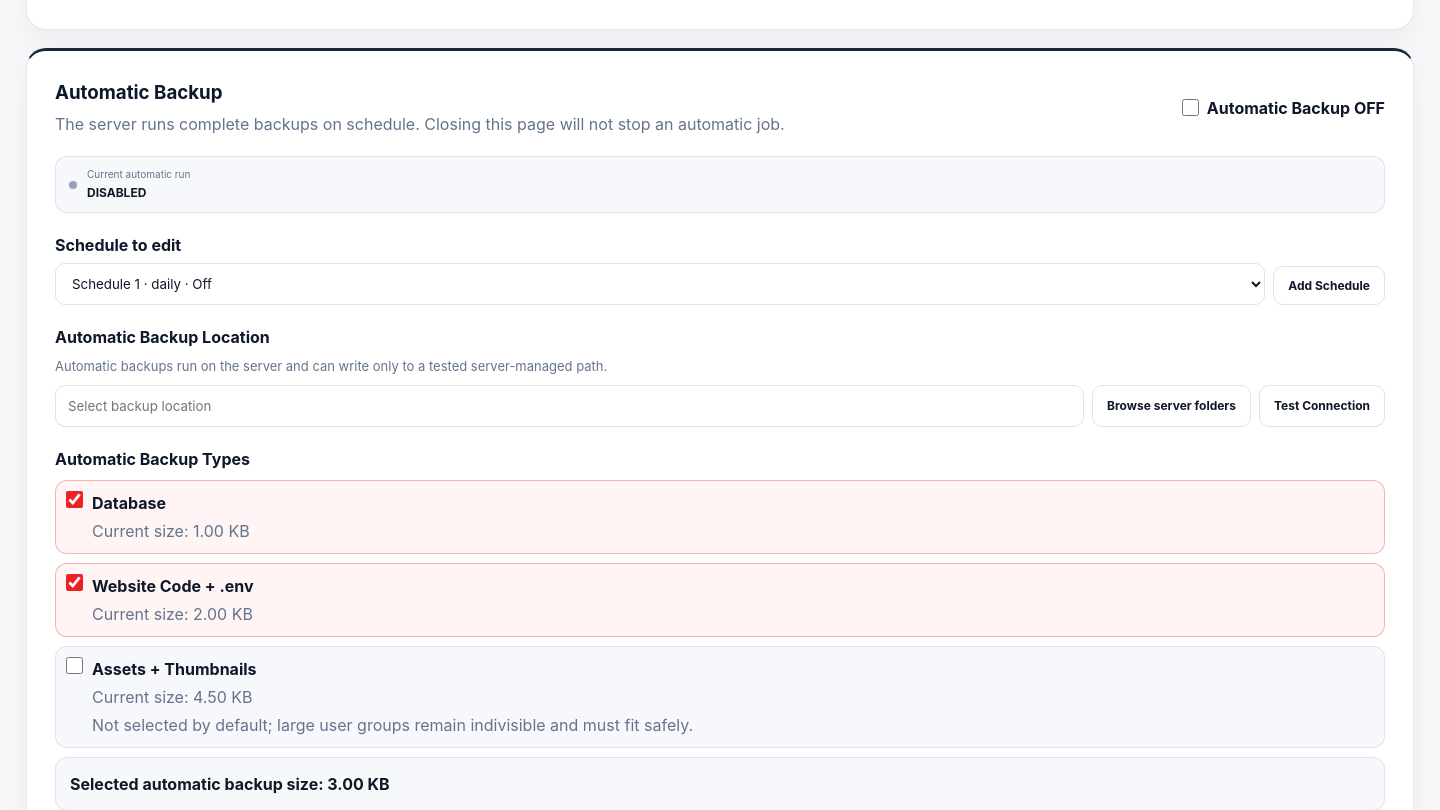
Scenario: AdminBackupPage › automatic destination Browse uses only the server-side destination picker
The width and height of the screenshot is (1440, 810).
(page scrolled)
Type "D:\\ExistingAutomaticBackup" into the field named "Automatic Backup Location" at coordinates (570, 406), box left=55, top=385, right=1084, bottom=427
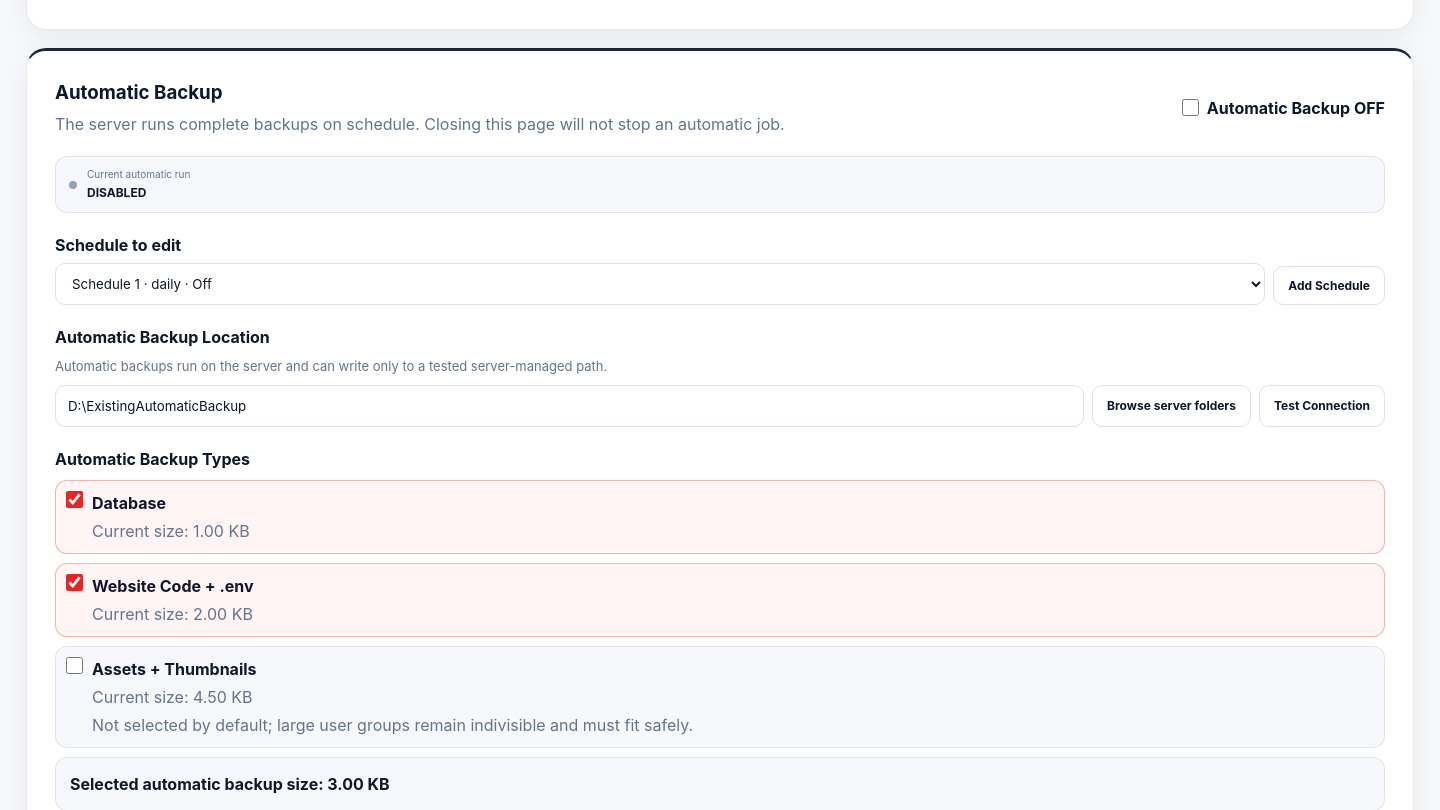
Click the button "Browse server folders" at coordinates (1172, 406), box left=1092, top=385, right=1251, bottom=427
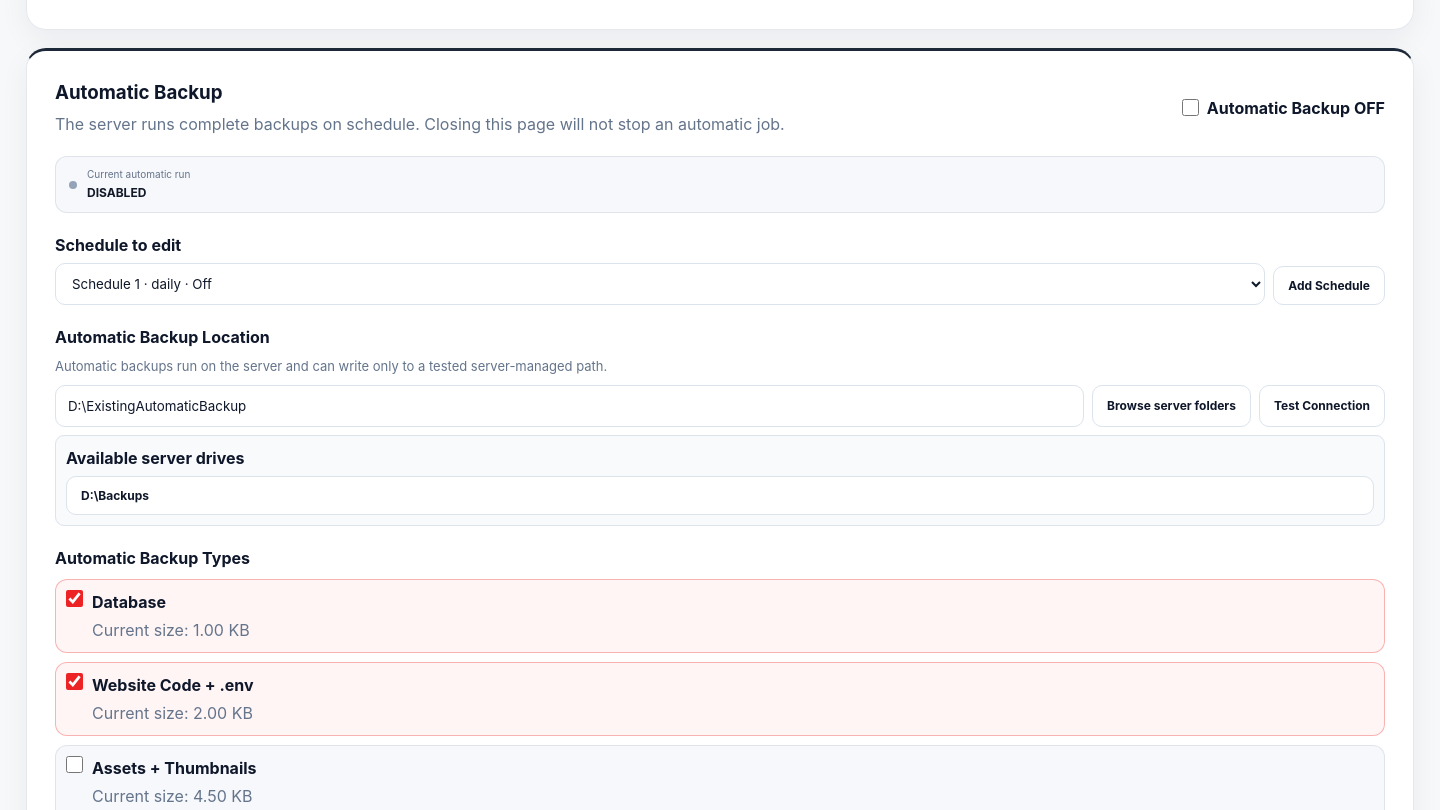
expect the button "D:\\Backups" is shown: met
Click the button "D:\\Backups" at coordinates (115, 495), box left=66, top=476, right=1374, bottom=515
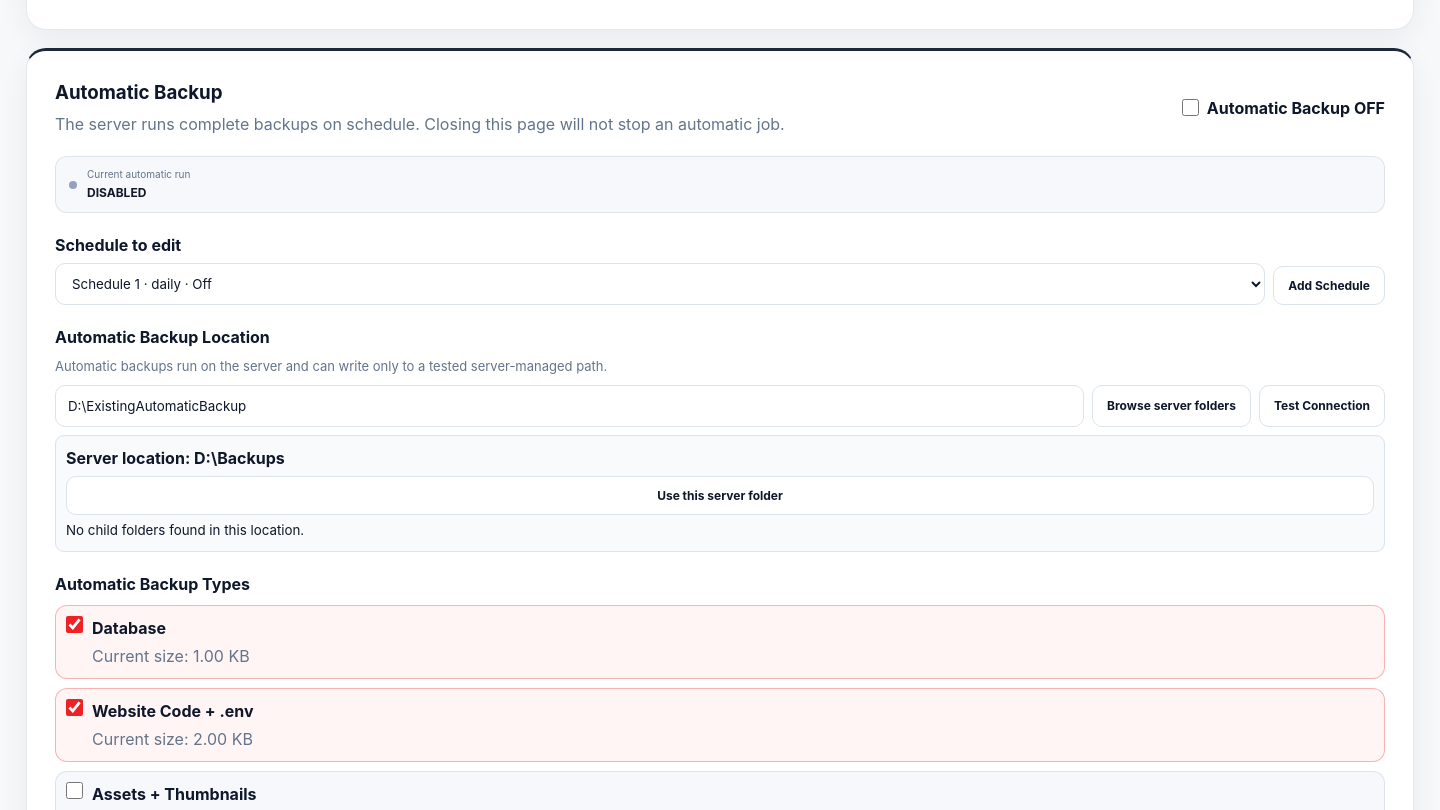
expect the text "Server location: D:\\Backups" is shown: met, box left=66, top=448, right=285, bottom=468
Click the button "Use this server folder" at coordinates (720, 495), box left=66, top=476, right=1374, bottom=515
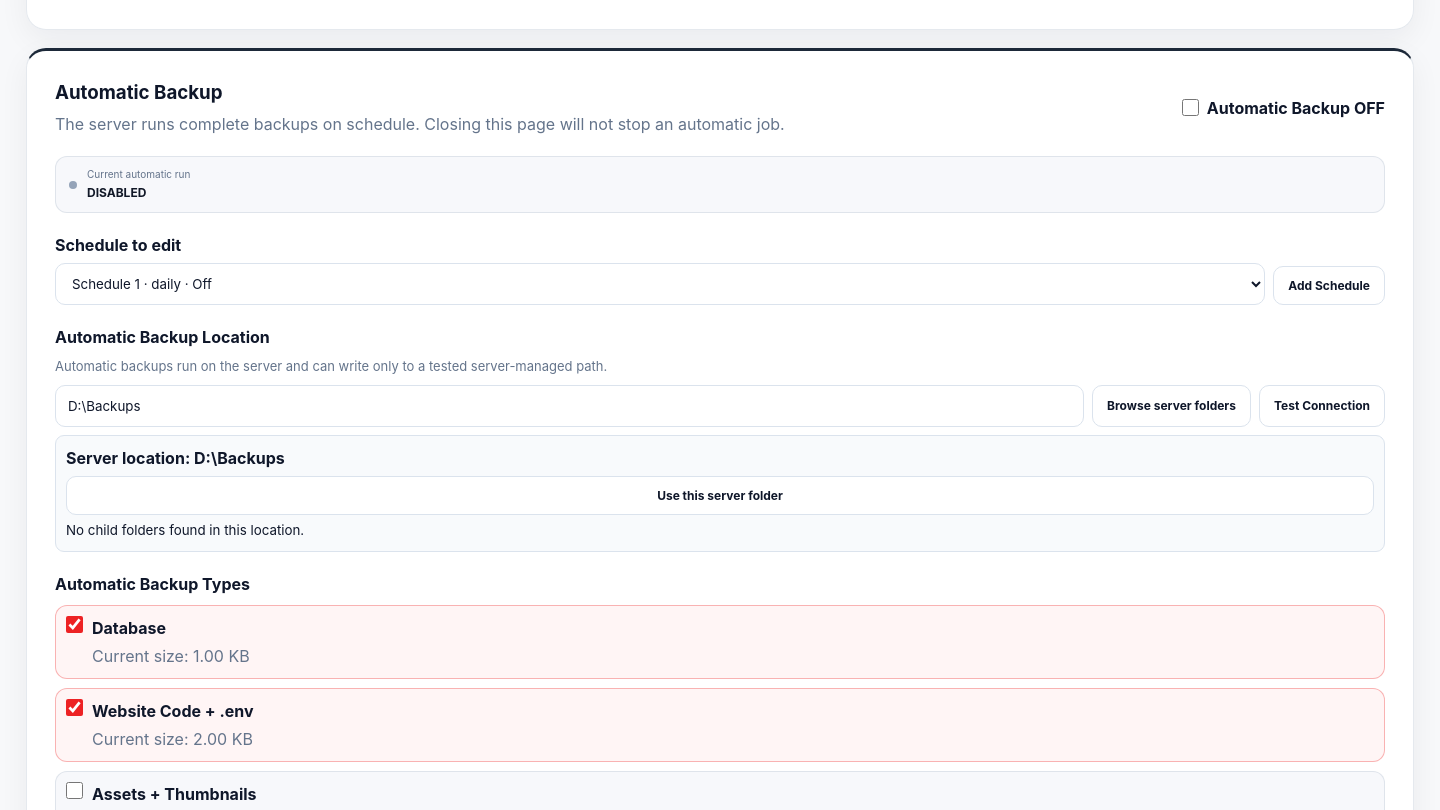
expect the field named "Automatic Backup Location" holds "D:\\Backups": met, box left=55, top=385, right=1084, bottom=427
